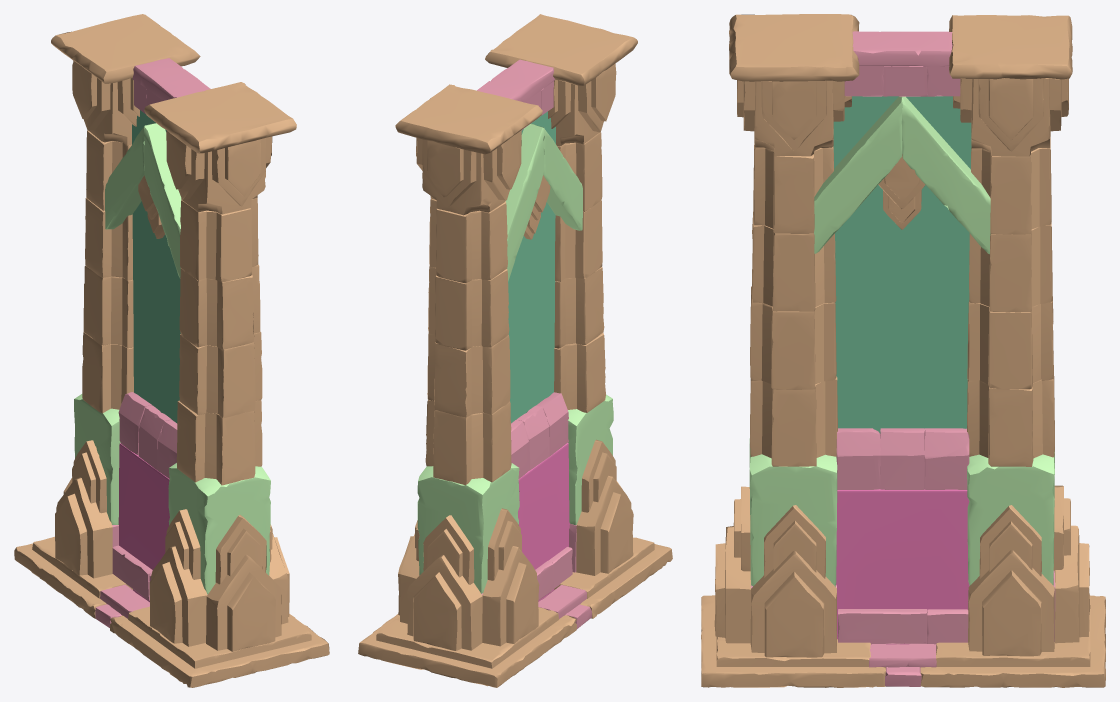
Rendered from Column_base_07_medium.fbx.
The picture shows the model from 3 angles, left to right: view 1: azimuth 30°, elevation 25°; view 2: azimuth 150°, elevation 25°; view 3: azimuth 270°, elevation 25°; orthographic projection. The views are drawn at different scales.
Parts seen in each view (by area): view 1: Column_base_07_medium_LOD0; view 2: Column_base_07_medium_LOD0; view 3: Column_base_07_medium_LOD0.
Part boxes in pixels (box(x1,y1,x2,y2)): Column_base_07_medium_LOD0: box(14, 14, 329, 687); Column_base_07_medium_LOD0: box(358, 14, 672, 687); Column_base_07_medium_LOD0: box(701, 14, 1105, 687).
Size of what is drawn, in the model's own units: 269 by 974 by 586.
